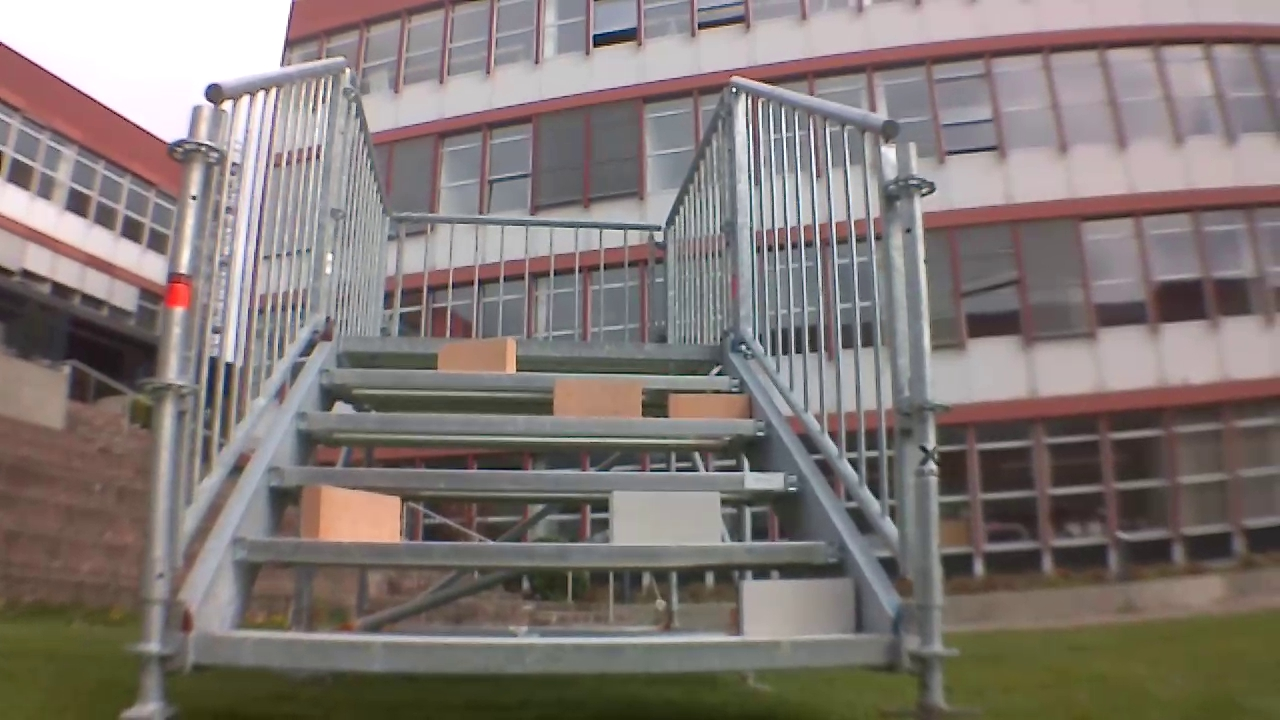brick: (739, 579, 853, 634), (301, 484, 400, 542), (609, 490, 719, 542), (556, 377, 642, 417), (436, 339, 515, 373), (668, 393, 747, 419)
edge: (192, 633, 894, 668), (236, 536, 841, 563), (265, 469, 800, 492), (294, 410, 767, 436), (340, 335, 719, 361), (316, 367, 743, 390)
stairs: (124, 56, 960, 718)
steps: (185, 329, 900, 677)
